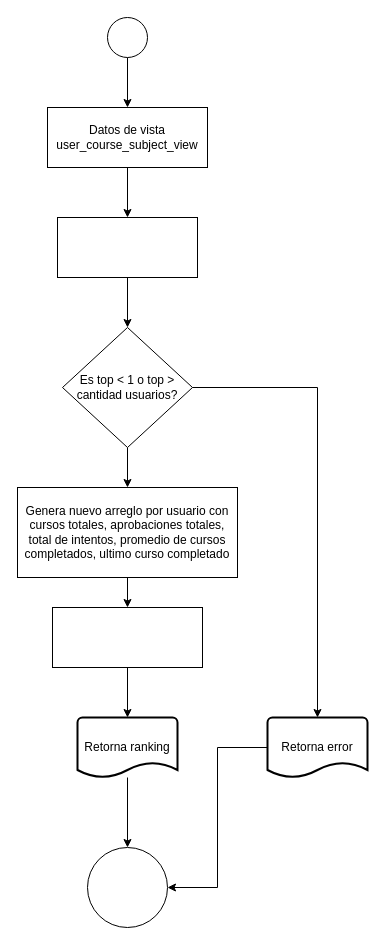
Image size: 386x945. Some labels were removed from this diagram. The shapes that lost their labels are listed below. From the top down, each one's box as (x1, y1, x2, y2) in pixels, then its label:
(56, 216, 198, 278): Obtiene lista unica de usuarios
(52, 606, 202, 668): Ordenamiento por criterios
(86, 846, 168, 928): Fin
